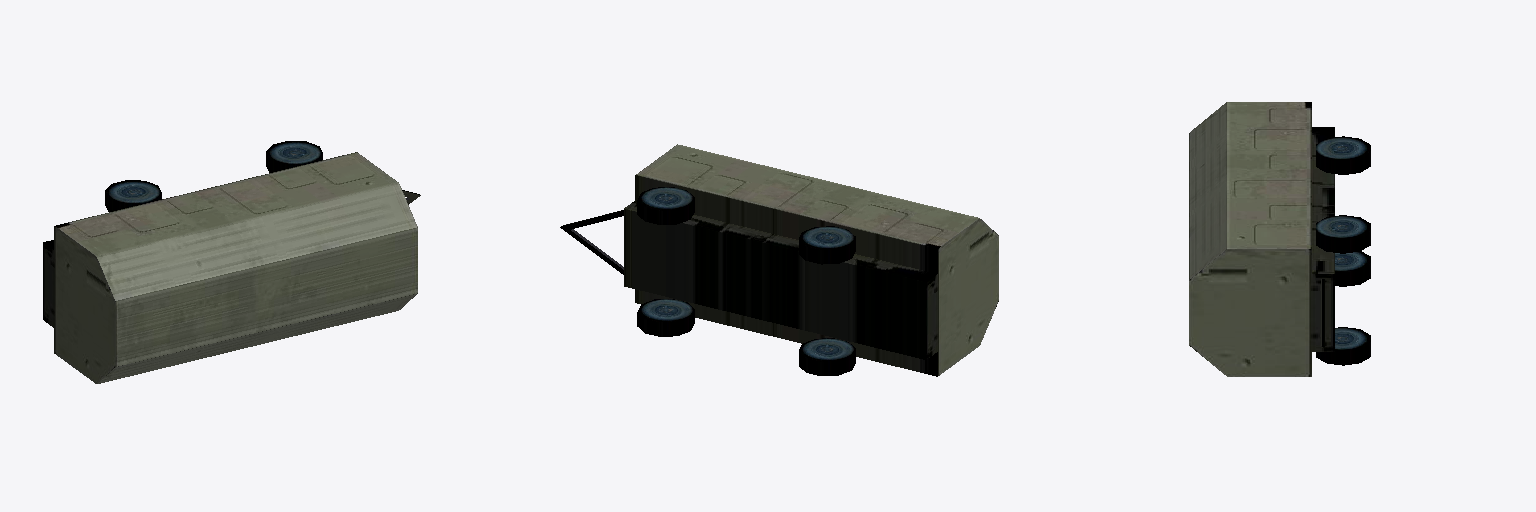
The picture shows the model from 3 angles: view 1: azimuth 30°, elevation 25°; view 2: azimuth 150°, elevation 25°; view 3: azimuth 270°, elevation 25°; orthographic projection.
Visible parts, largest first — view 1: Object__11, Object__0, Object__2; view 2: Object__11, Object__0, Object__5, Object__7, Object__2, Object__9; view 3: Object__11, Object__0, Object__2, Object__5, Object__7.
Boxes of the visible parts, x1,y1,x2,y2 form: Object__11: [43, 152, 417, 383]; Object__0: [266, 141, 322, 172]; Object__2: [105, 180, 161, 211]; Object__11: [624, 144, 998, 376]; Object__0: [637, 187, 694, 224]; Object__5: [637, 299, 694, 336]; Object__7: [799, 338, 855, 375]; Object__2: [799, 226, 855, 264]; Object__9: [560, 210, 623, 274]; Object__11: [1189, 102, 1334, 376]; Object__0: [1316, 215, 1370, 253]; Object__2: [1316, 136, 1370, 174]; Object__5: [1316, 327, 1370, 365]; Object__7: [1335, 251, 1370, 286].
Bounding box in the file's own units: 1 × 0.3289 × 0.4229.
Materials: 1 (1 with a texture image).